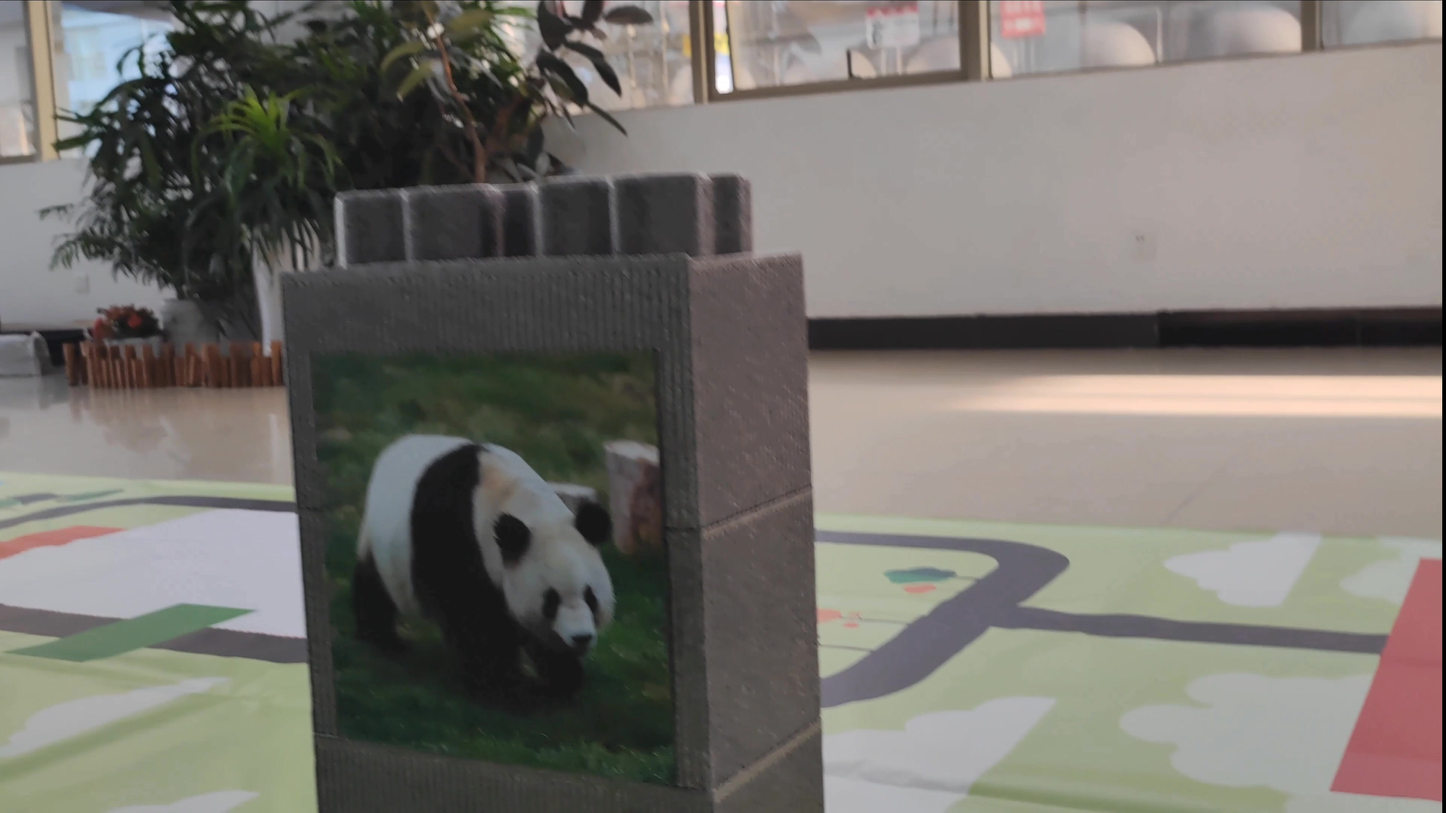panda: (337, 408, 644, 709)
